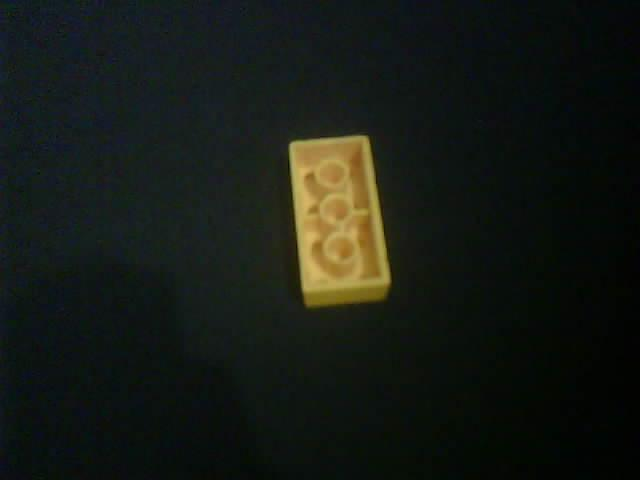lego: (286, 133, 392, 308)
